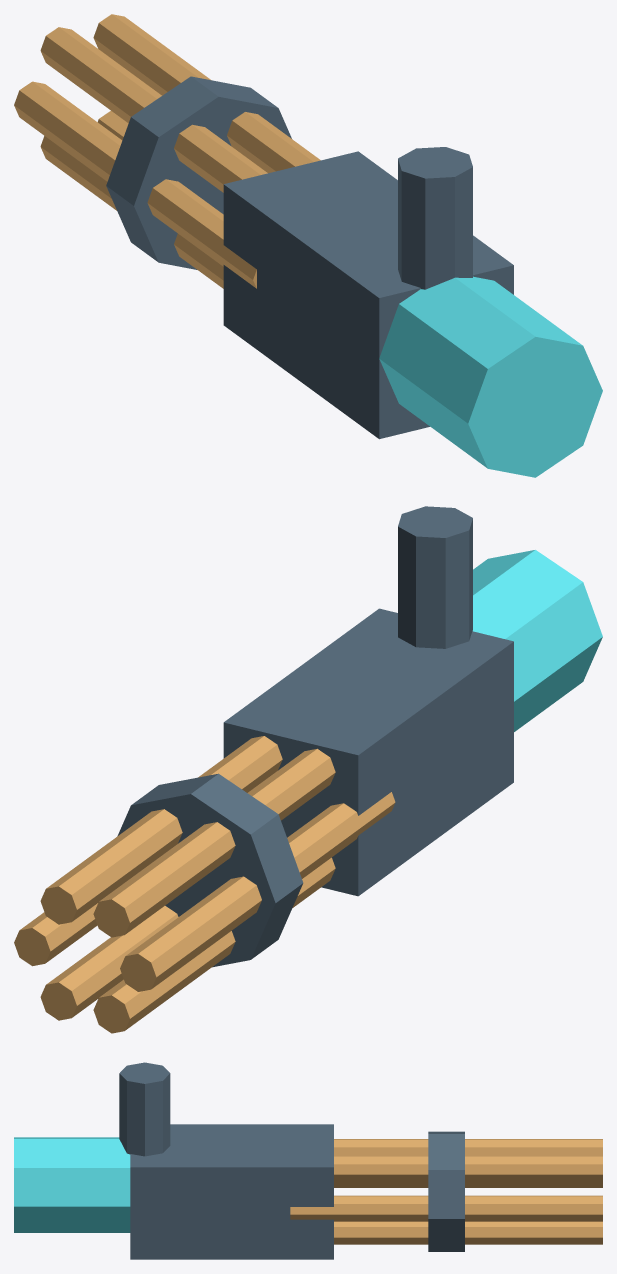
The picture shows the model from 3 angles, top to bottom: view 1: azimuth 30°, elevation 25°; view 2: azimuth 150°, elevation 25°; view 3: azimuth 270°, elevation 25°; orthographic projection. The views are drawn at different scales.
Visible parts, largest first — view 1: wild-repeater; view 2: wild-repeater; view 3: wild-repeater.
Boxes of the visible parts, x1=… form: wild-repeater: x1=14, y1=14, x2=602, y2=477; wild-repeater: x1=14, y1=506, x2=602, y2=1033; wild-repeater: x1=14, y1=1062, x2=602, y2=1259.
Size of the model in its own units: 0.176 by 0.268 by 0.81.
